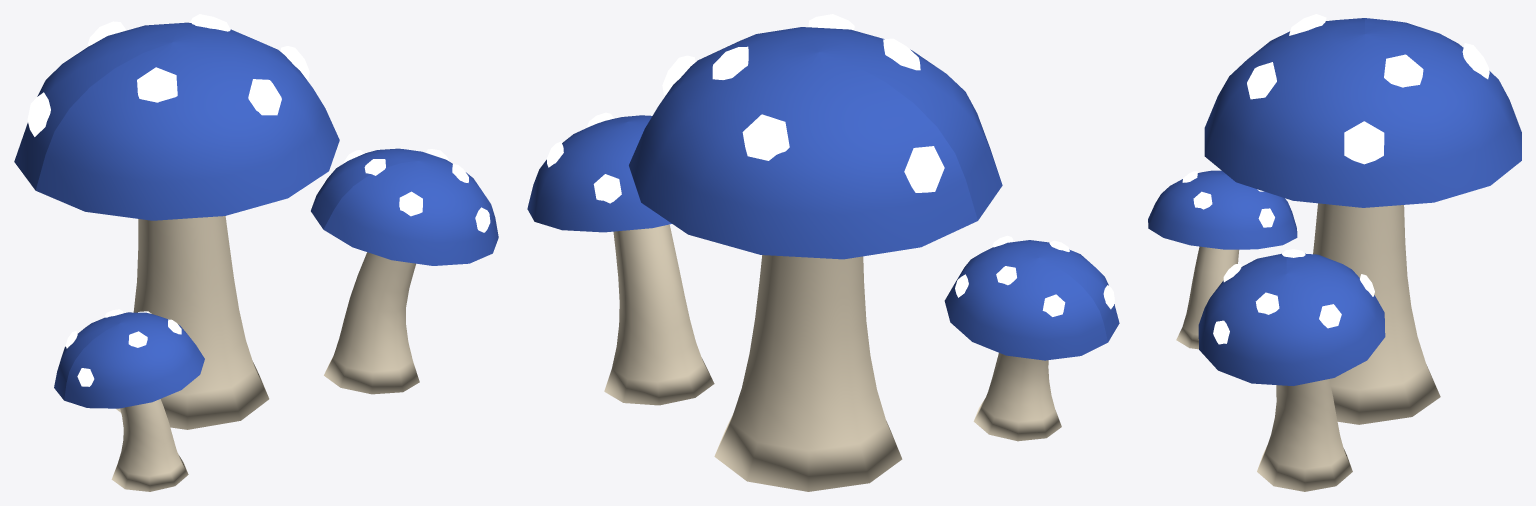
File: GlowShroom.glb
The picture shows the model from 3 angles, left to right: view 1: azimuth 30°, elevation 25°; view 2: azimuth 150°, elevation 25°; view 3: azimuth 270°, elevation 25°; orthographic projection. The views are drawn at different scales.
Parts seen in each view (by area): view 1: Body, GlowCore; view 2: Body, GlowCore; view 3: Body, GlowCore.
Boxes of the visible parts, left/top/right/bottom form: Body: left=14, top=22, right=498, bottom=491; GlowCore: left=27, top=14, right=490, bottom=386; Body: left=527, top=27, right=1119, bottom=491; GlowCore: left=546, top=14, right=1114, bottom=316; Body: left=1148, top=18, right=1521, bottom=491; GlowCore: left=1182, top=14, right=1489, bottom=344.
Size of the model in its own units: 2.91 by 2.18 by 2.07.
Materials: 3 (1 with a texture image).
